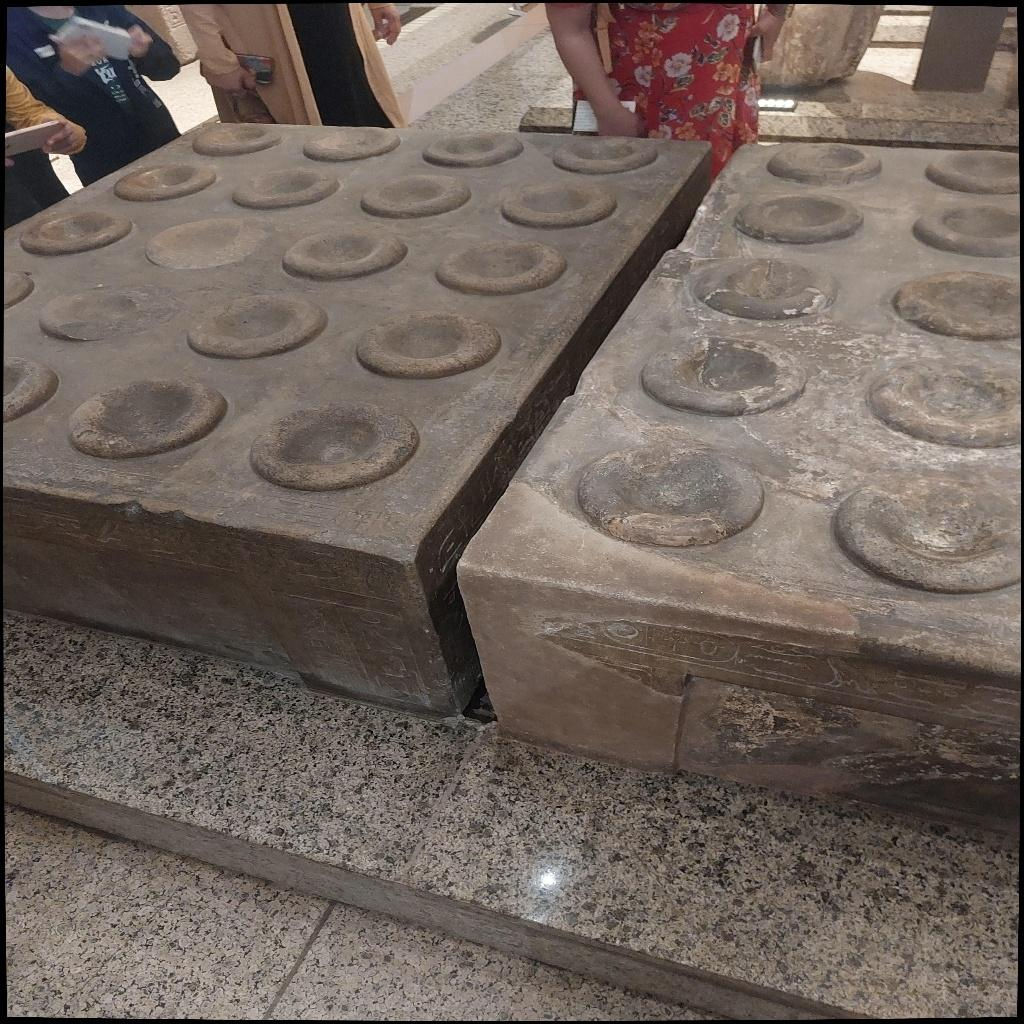Offering table of Amenemhat 6: (5, 118, 715, 722)
